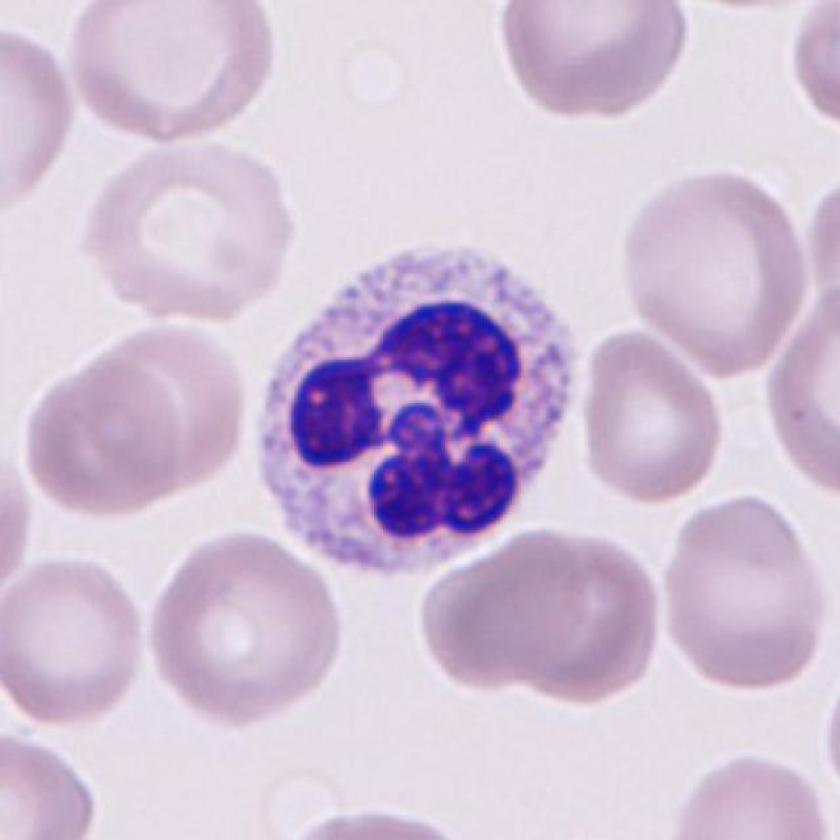neutrophil: (255, 251, 587, 574)
